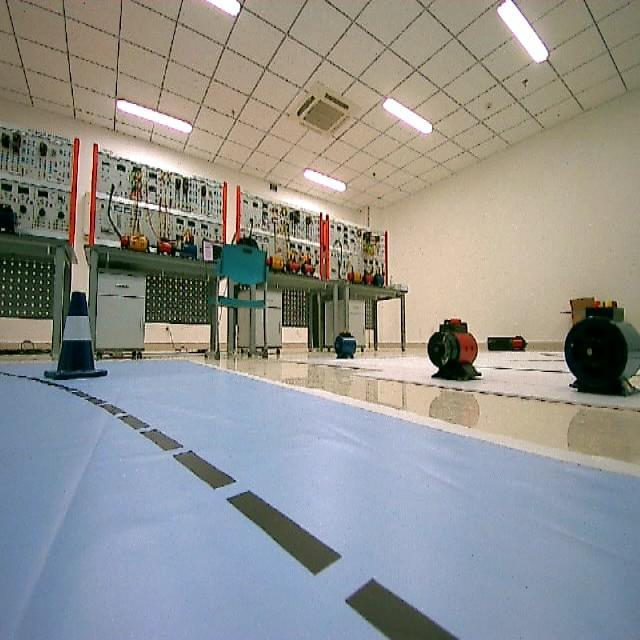obstacle: (45, 289, 113, 388)
